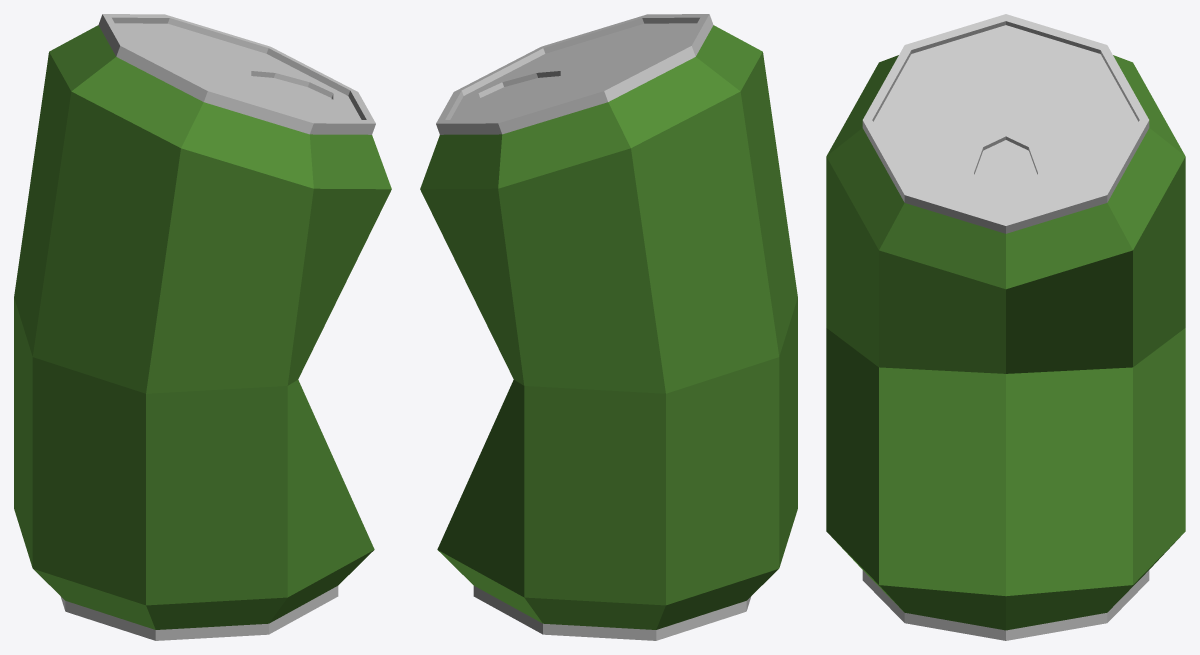
Rendered from crumpled_can3.fbx.
3 renders of one model, left to right at view 1: azimuth 30°, elevation 25°; view 2: azimuth 150°, elevation 25°; view 3: azimuth 270°, elevation 25°, orthographic. The views are drawn at different scales.
Visible parts, largest first — view 1: crumpled_can3; view 2: crumpled_can3; view 3: crumpled_can3.
Boxes of the visible parts, x1,y1,x2,y2 form: crumpled_can3: (14, 14, 391, 640); crumpled_can3: (420, 14, 797, 640); crumpled_can3: (826, 14, 1185, 640).
Bounding box in the file's own units: 0.0937 × 0.1468 × 0.0899.
